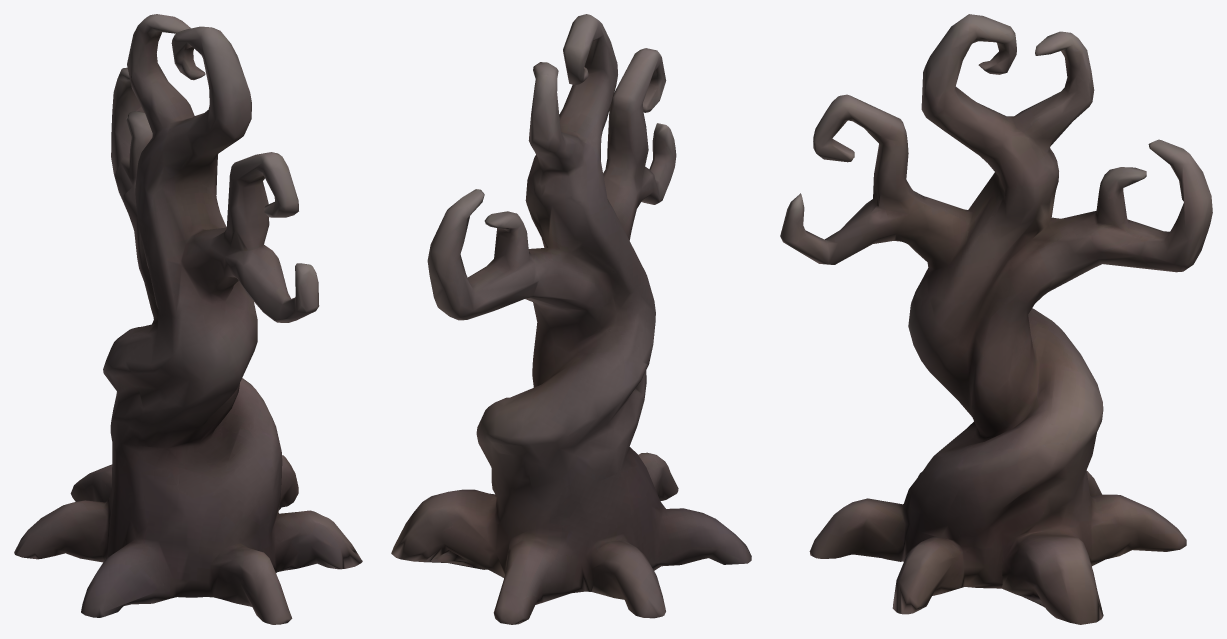
The model's file is gy_tree_bare-DNgp1X_W.glb.
3 renders of one model, left to right at view 1: azimuth 30°, elevation 25°; view 2: azimuth 150°, elevation 25°; view 3: azimuth 270°, elevation 25°, orthographic. The views are drawn at different scales.
Parts seen in each view (by area): view 1: tripo_node_a35d325c-175d-44ba-8edf-b69640ac96b4; view 2: tripo_node_a35d325c-175d-44ba-8edf-b69640ac96b4; view 3: tripo_node_a35d325c-175d-44ba-8edf-b69640ac96b4.
Part boxes in pixels (box(x1,y1,x2,y2)): tripo_node_a35d325c-175d-44ba-8edf-b69640ac96b4: box(14, 14, 362, 624); tripo_node_a35d325c-175d-44ba-8edf-b69640ac96b4: box(391, 14, 751, 624); tripo_node_a35d325c-175d-44ba-8edf-b69640ac96b4: box(780, 14, 1212, 624).
Size of the model in its own units: 0.5607 by 1 by 0.7249.
1 material, 1 textured.
